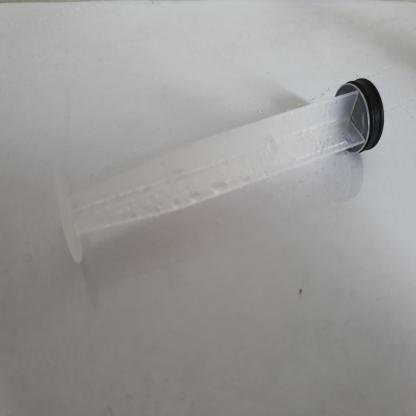wet: (64, 62, 377, 278)
